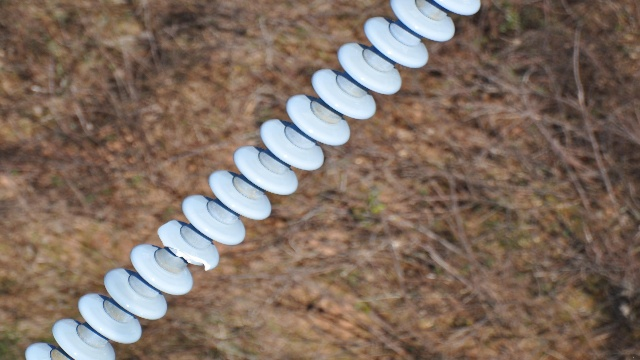broken_local: (157, 217, 211, 272)
insulator_unspecified: (26, 1, 481, 359)
